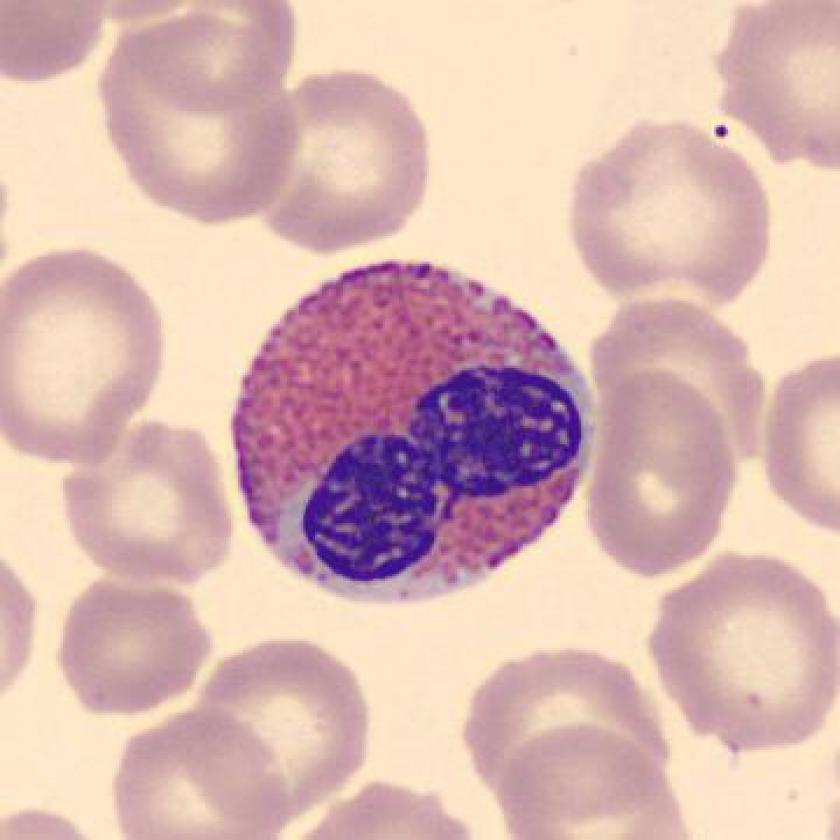eosinophil: (223, 247, 610, 617)
